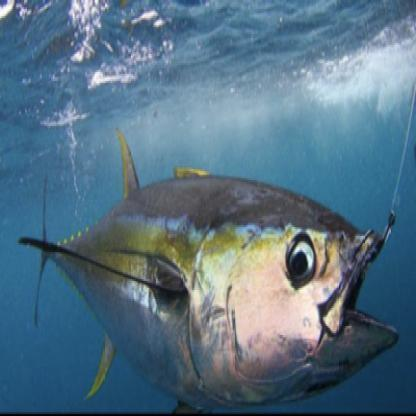Bio: (13, 126, 400, 411)
